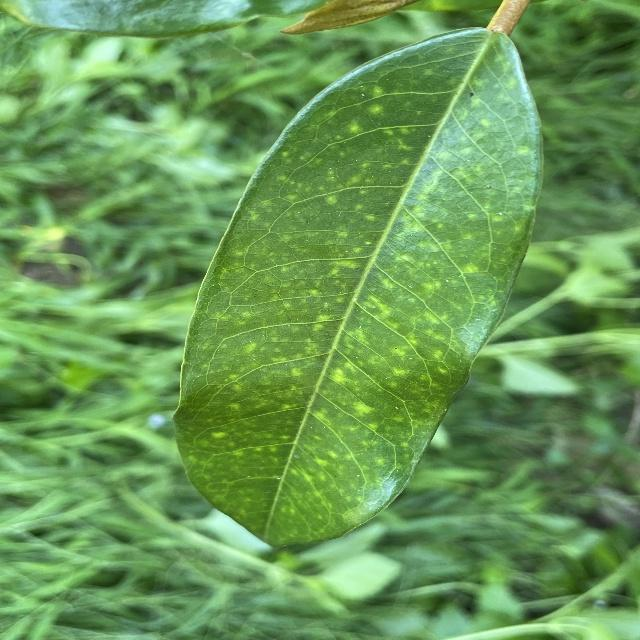Leaf Spot: (163, 17, 547, 559)
